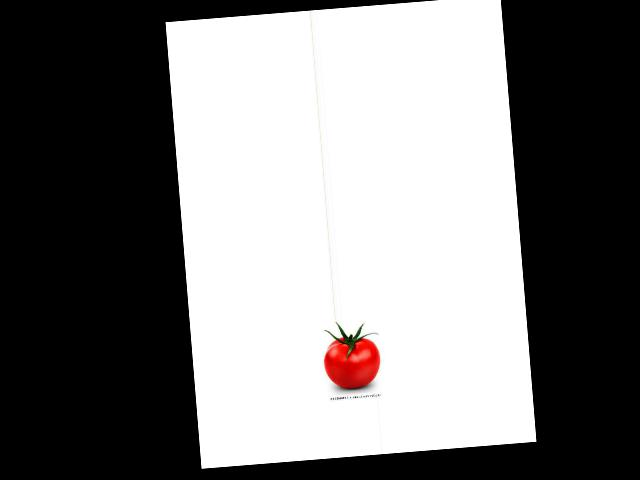tomato: (321, 335, 381, 390)
